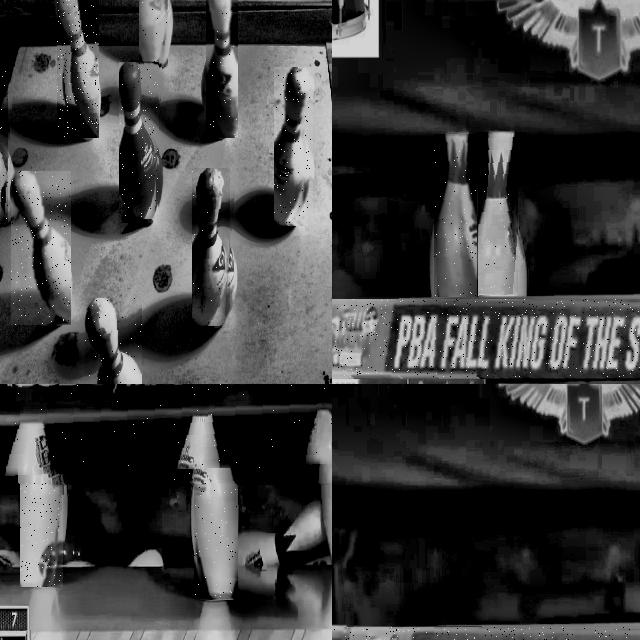bowling-pins: (11, 172, 71, 325), (434, 134, 477, 296), (195, 434, 237, 598), (478, 132, 518, 295), (21, 435, 61, 587), (120, 63, 158, 220), (193, 168, 230, 327), (58, 0, 99, 137), (275, 68, 311, 223), (85, 298, 142, 384), (206, 0, 238, 137), (140, 0, 168, 67)
sweep board: (332, 301, 640, 377)
